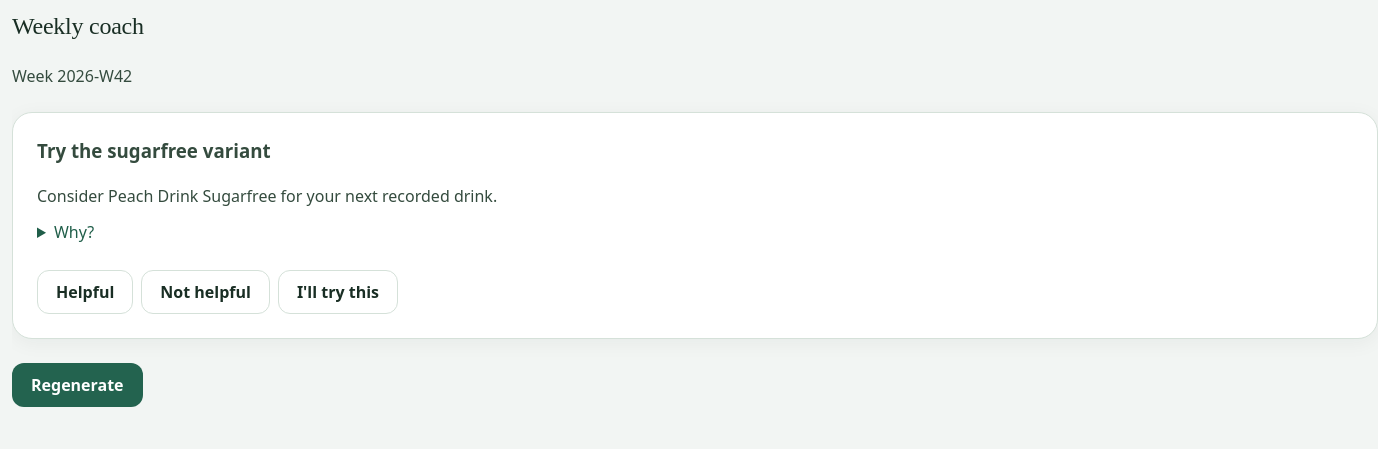
feedback_posts_value Not helpful
Click the button "Not helpful" at (206, 292), box x1=141 y1=270 x2=270 y2=314
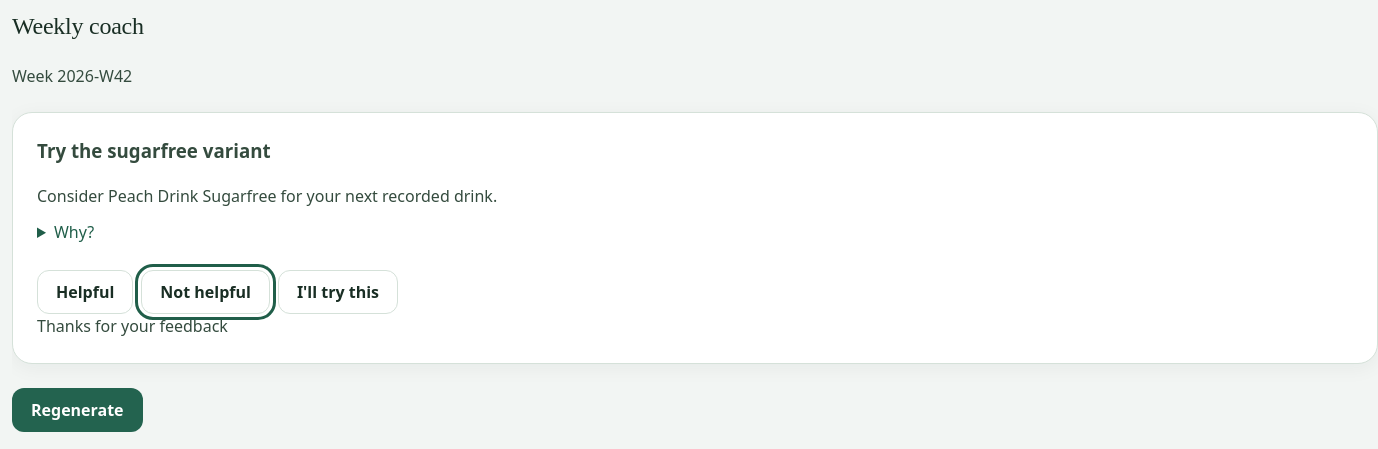
Now the text "Thanks for your feedback" is shown, box x1=37 y1=315 x2=228 y2=337
